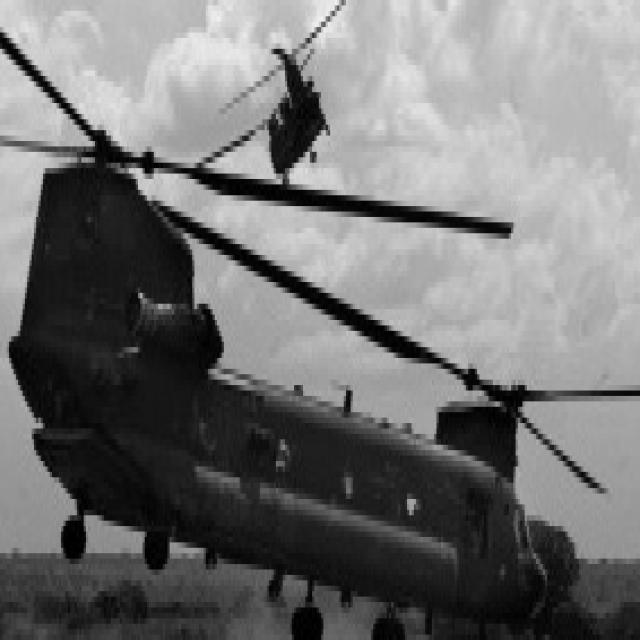Helicopter: (10, 171, 545, 619)
